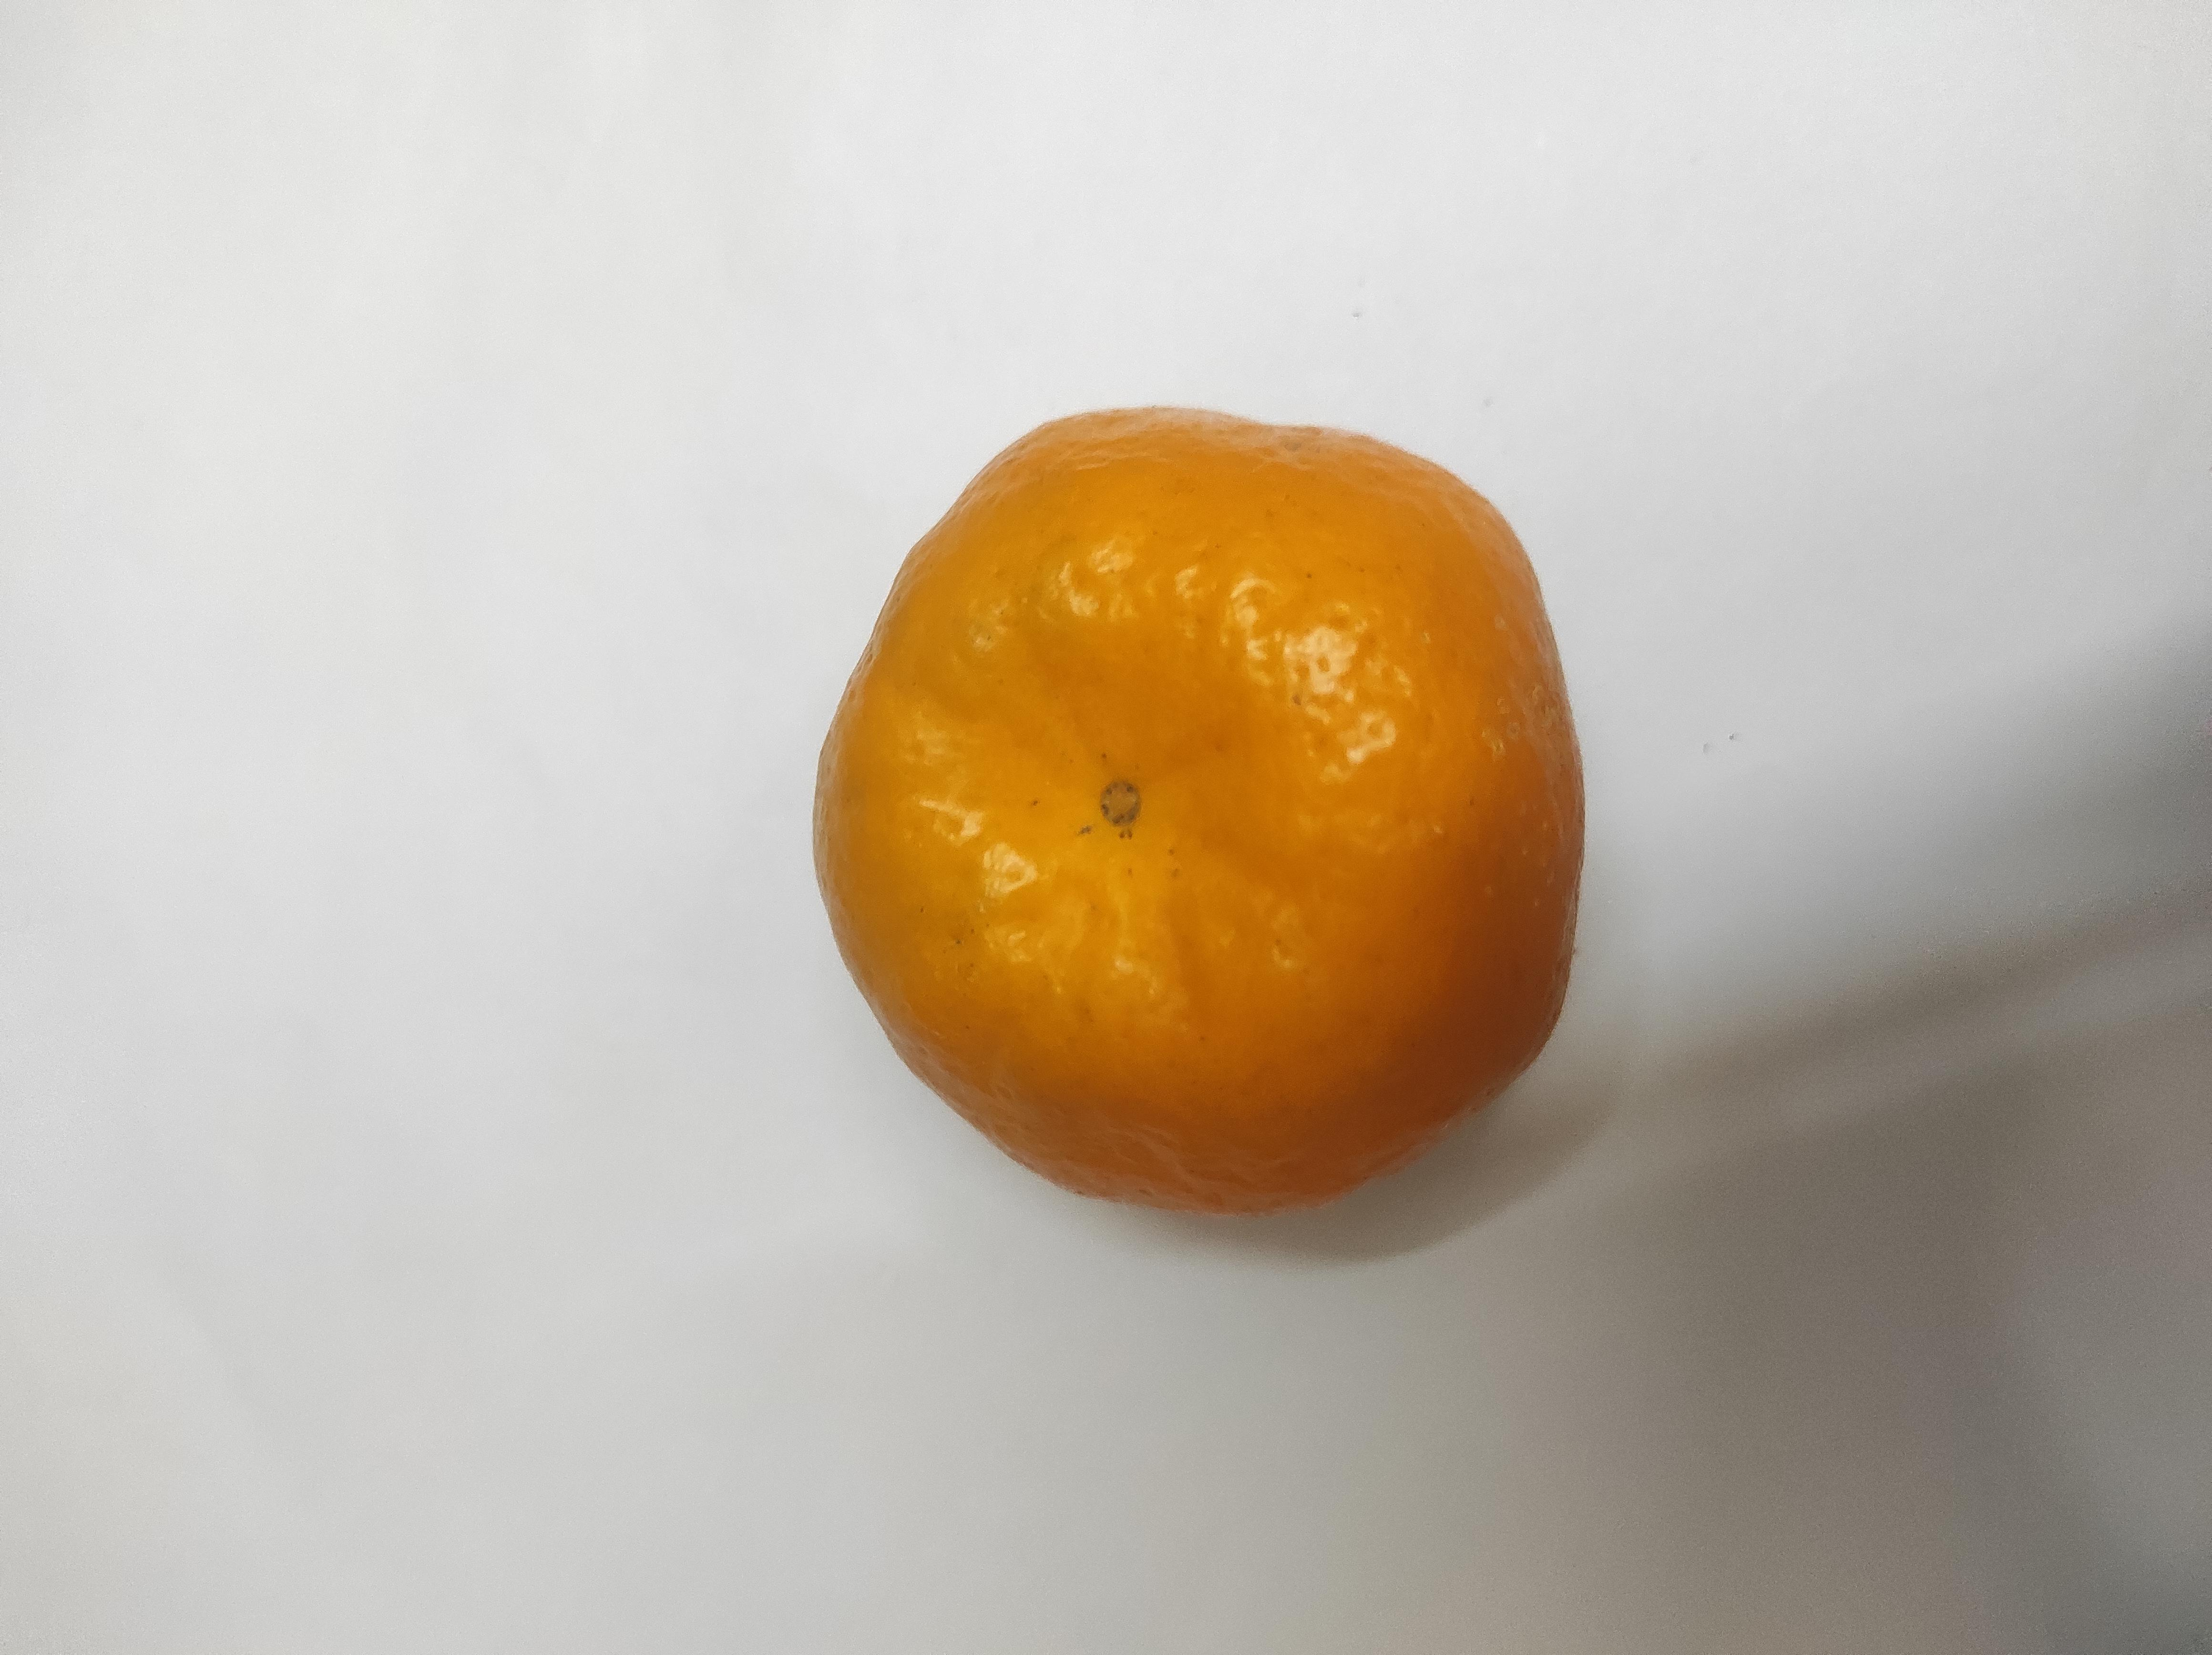Ripe: (574, 603, 1669, 1187)
